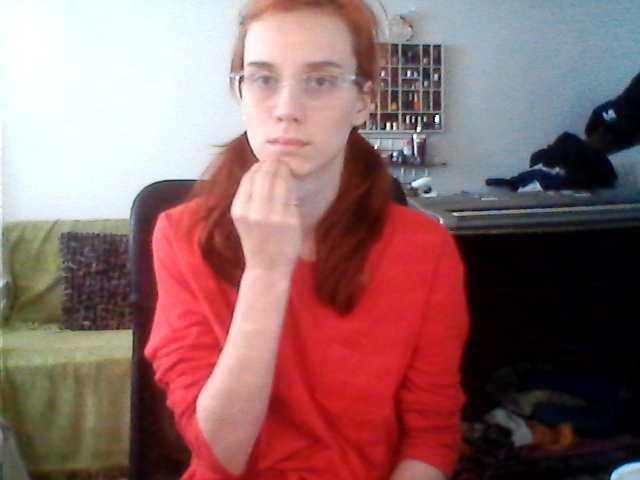c: (226, 144, 327, 271)
